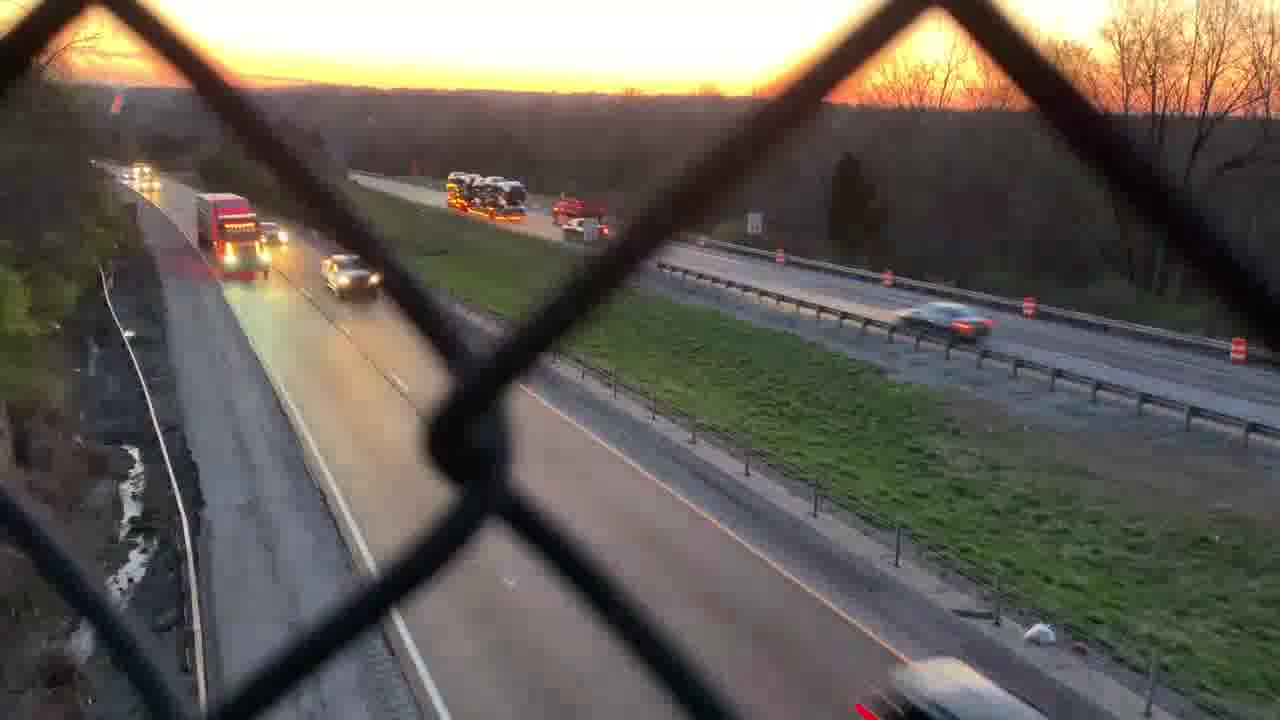heavyTruck: (189, 192, 269, 277)
lightTruck: (322, 255, 377, 300)
smallCar: (889, 300, 996, 343)
